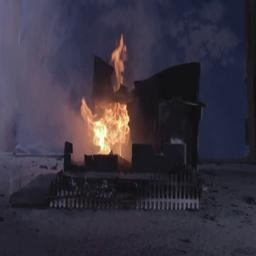fire: (77, 64, 142, 161)
